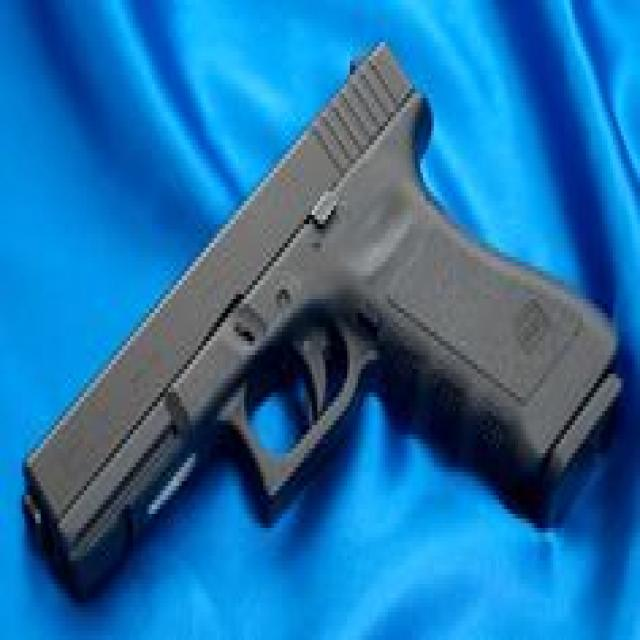semi automatic: (14, 35, 632, 628)
